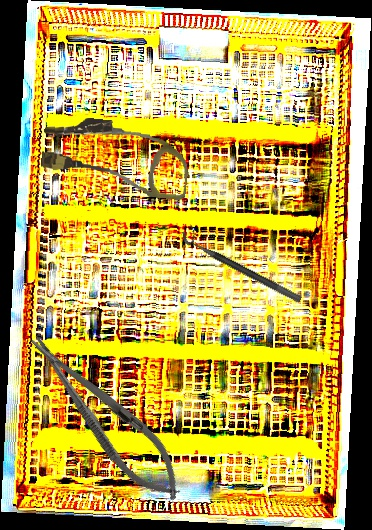Cannula: (38, 113, 193, 201)
Fixation Ring: (178, 223, 308, 304)
Needle Holder: (14, 319, 198, 514)
